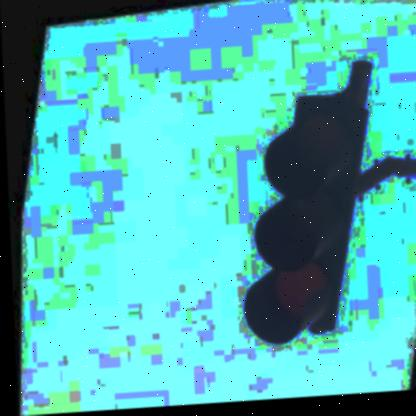Traffic Light -Red-: (226, 87, 380, 358)
